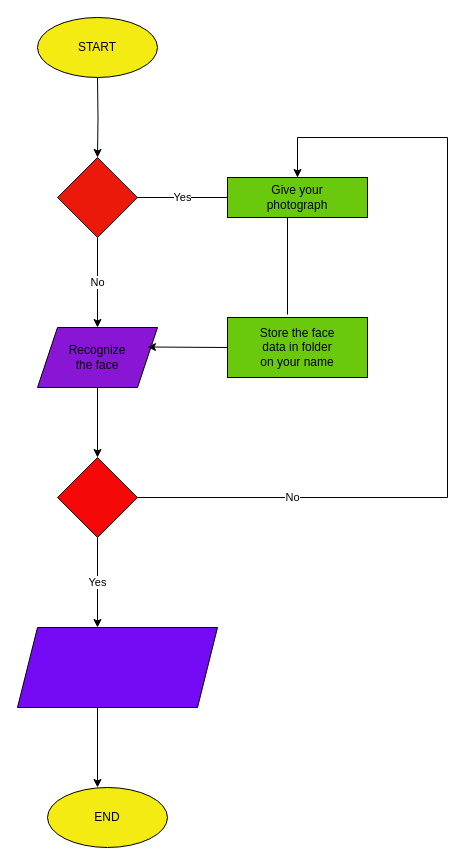
Image size: 466x865. Some labels were removed from this diagram. The centre of each missing label's shape, as x and y in pixels:
Face Recognised: pixel 97 497
New User?: pixel 97 197
Stored in csv file with registration number &date Time of Entry: pixel 117 667
